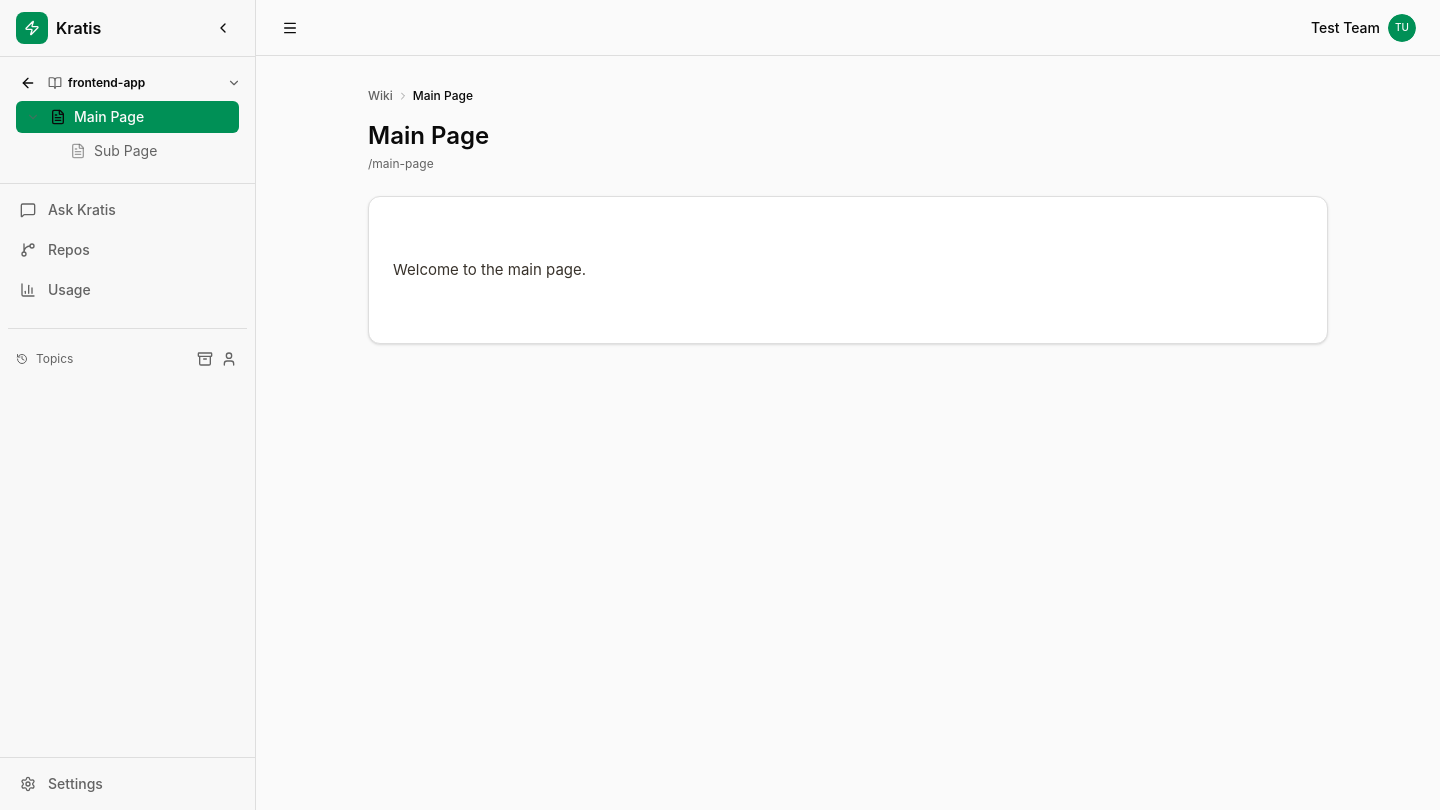
Test case: Wiki Flow and Navigation › toggles the wiki sidebar section via the header affordance
Expected: the text "Welcome to the main page." is shown, left=393, top=260, right=586, bottom=279
Expected: the text "Sub Page" is shown, left=94, top=141, right=157, bottom=161
Click the button named "collapse wiki section" at (234, 83), box left=225, top=74, right=243, bottom=92
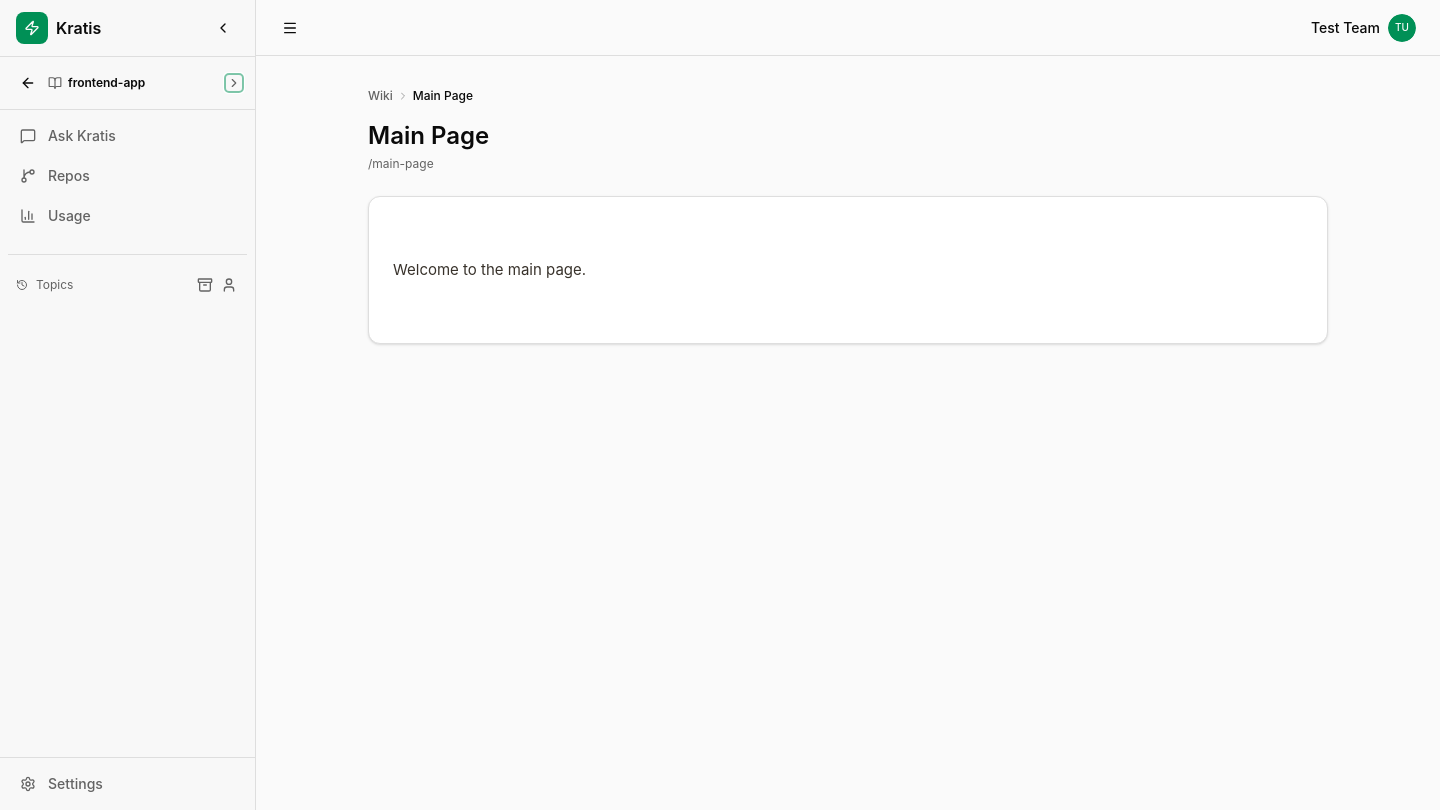
Result: the element with test id "wiki-sidebar-section-content" is gone
Result: the button named "expand wiki section" is shown
Click the button named "expand wiki section" at (234, 83), box left=225, top=74, right=243, bottom=92
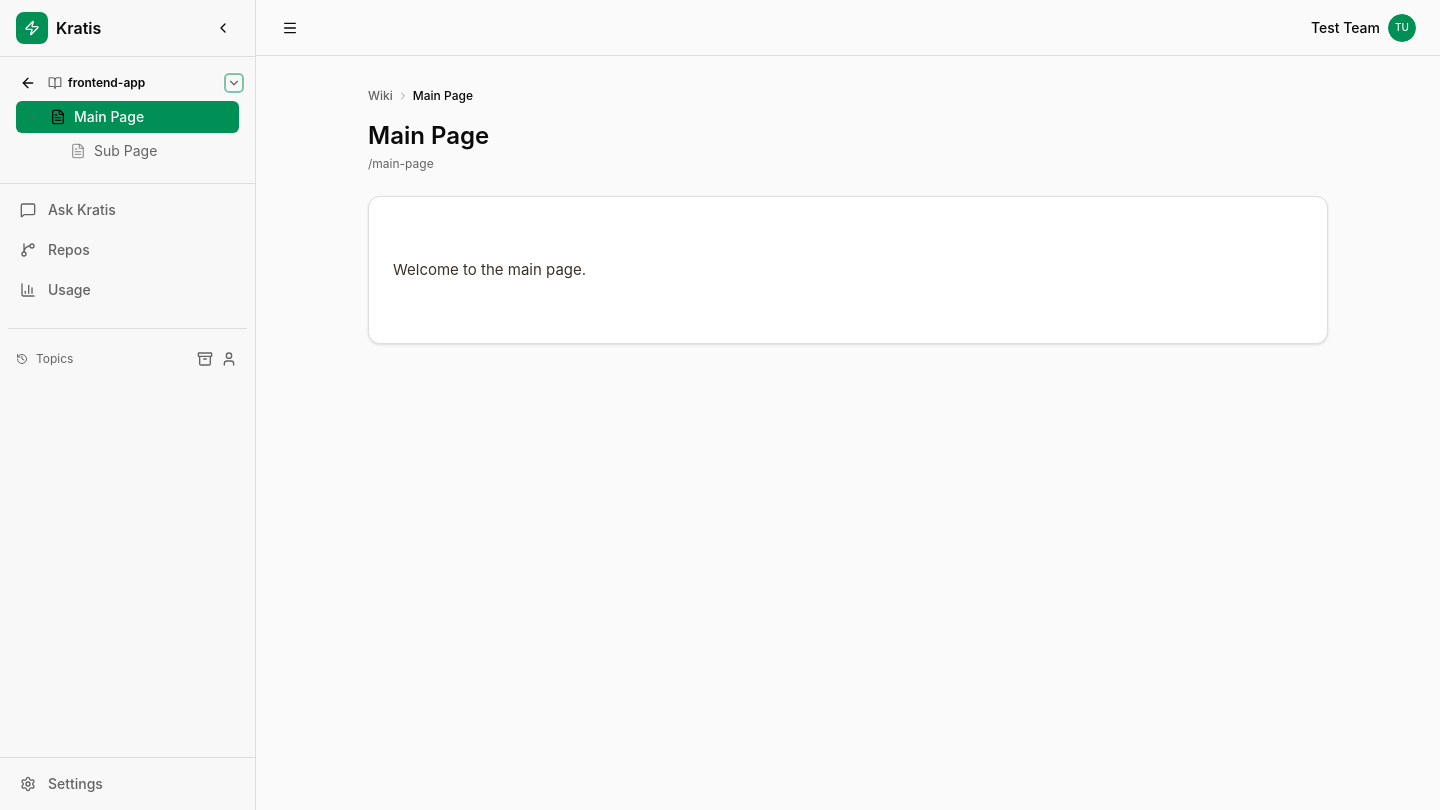
Result: the element with test id "wiki-sidebar-section-content" is shown at left=8, top=101, right=247, bottom=175
